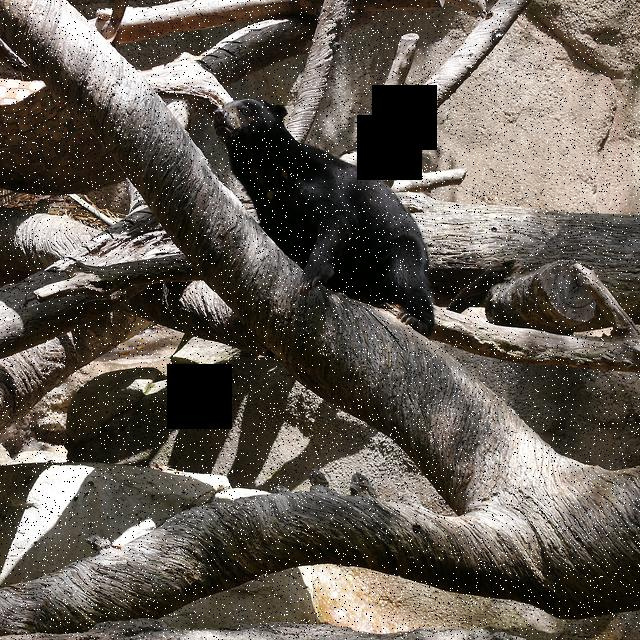Bear: (205, 88, 443, 330)
